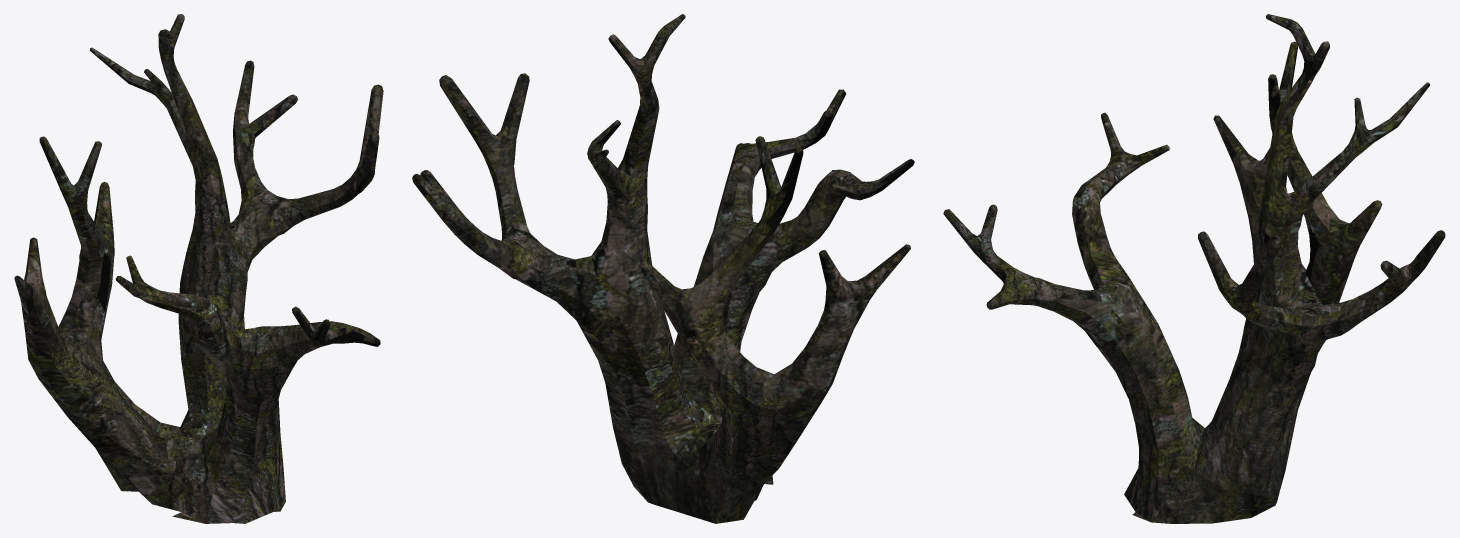
File: bush6.obj
3 renders of one model, left to right at view 1: azimuth 30°, elevation 25°; view 2: azimuth 150°, elevation 25°; view 3: azimuth 270°, elevation 25°, orthographic. The views are drawn at different scales.
Parts seen in each view (by area): view 1: Cube.010_Cube.011; view 2: Cube.010_Cube.011; view 3: Cube.010_Cube.011.
Part boxes in pixels (x1=…): Cube.010_Cube.011: x1=14, y1=14, x2=383, y2=523; Cube.010_Cube.011: x1=412, y1=14, x2=914, y2=523; Cube.010_Cube.011: x1=943, y1=14, x2=1445, y2=523.
Size of the model in its own units: 2.79 by 2.98 by 2.84.
